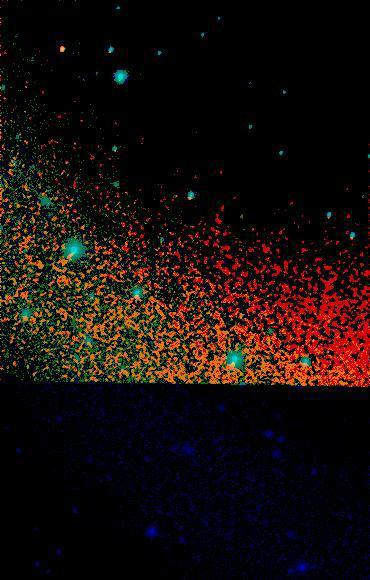star: (49, 33, 79, 63)
